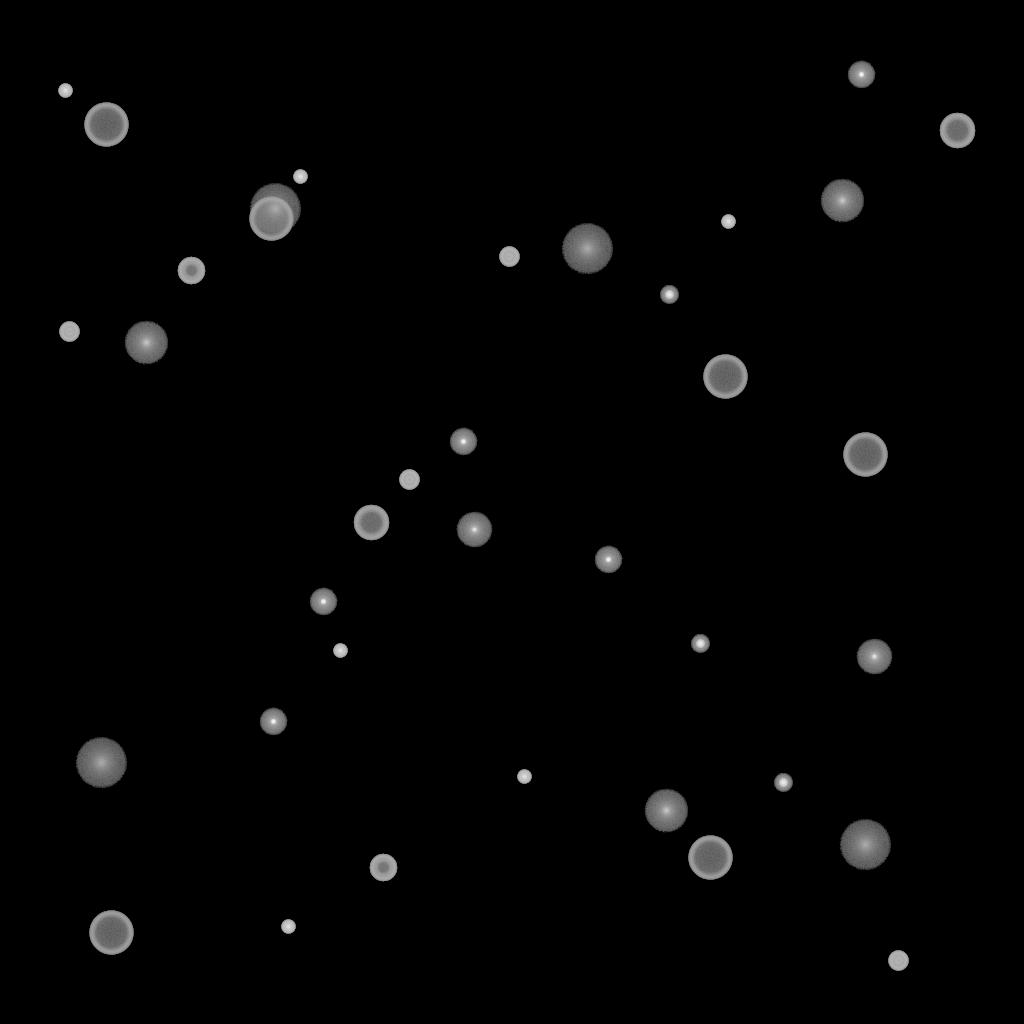depth:-10: (594, 546, 622, 574), (449, 428, 477, 456), (847, 61, 875, 89), (309, 588, 337, 616), (259, 708, 287, 736)
depth:-20: (774, 774, 792, 792), (660, 286, 678, 304), (691, 635, 709, 653)
depth:-30: (58, 84, 72, 98), (281, 920, 295, 934), (333, 644, 347, 658), (721, 215, 735, 229), (293, 170, 307, 184), (517, 770, 531, 784)
depth:-40: (888, 951, 908, 971), (399, 470, 419, 490), (59, 322, 79, 342), (499, 247, 519, 267)
depth:-50: (369, 854, 397, 882), (177, 257, 205, 285)
depth:-60: (939, 113, 975, 149), (353, 505, 389, 541)
depth:-70: (688, 836, 732, 880), (703, 355, 747, 399), (84, 103, 128, 147), (249, 197, 293, 241), (843, 433, 887, 477), (89, 911, 133, 955)
depth:0: (456, 512, 492, 548), (856, 639, 892, 675)
depth:10: (124, 321, 168, 365), (644, 789, 688, 833), (820, 179, 864, 223)
depth:20: (561, 224, 613, 274), (839, 820, 891, 870), (75, 738, 127, 788), (249, 184, 301, 234)
